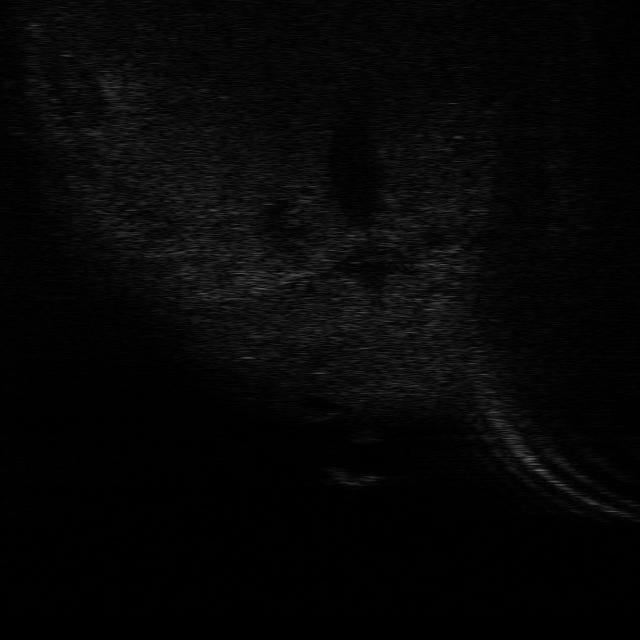cube: (317, 464, 385, 490)
